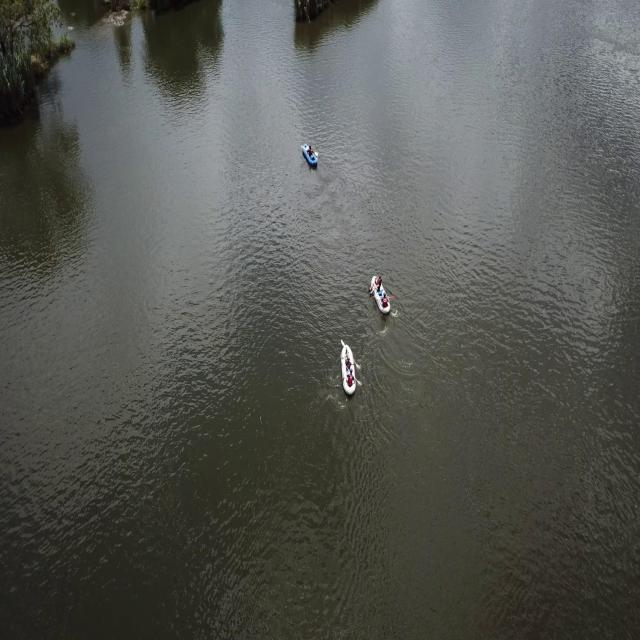kayak: (335, 338, 363, 403), (368, 271, 397, 320), (301, 142, 320, 172)
